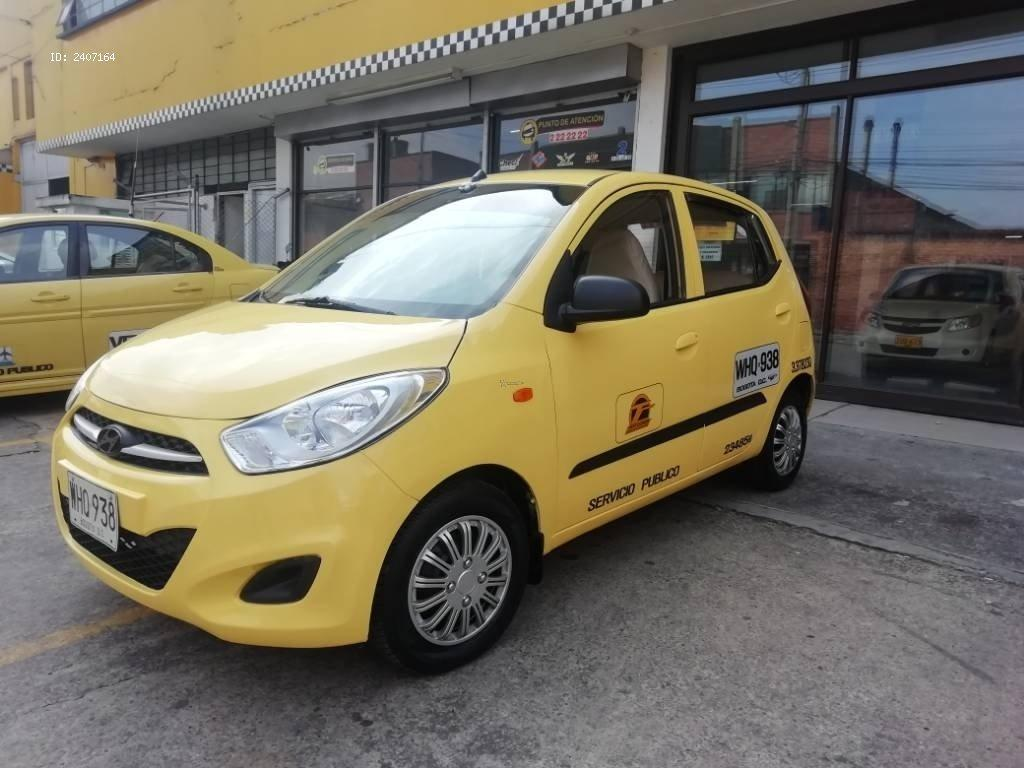taxi: (67, 130, 819, 690)
